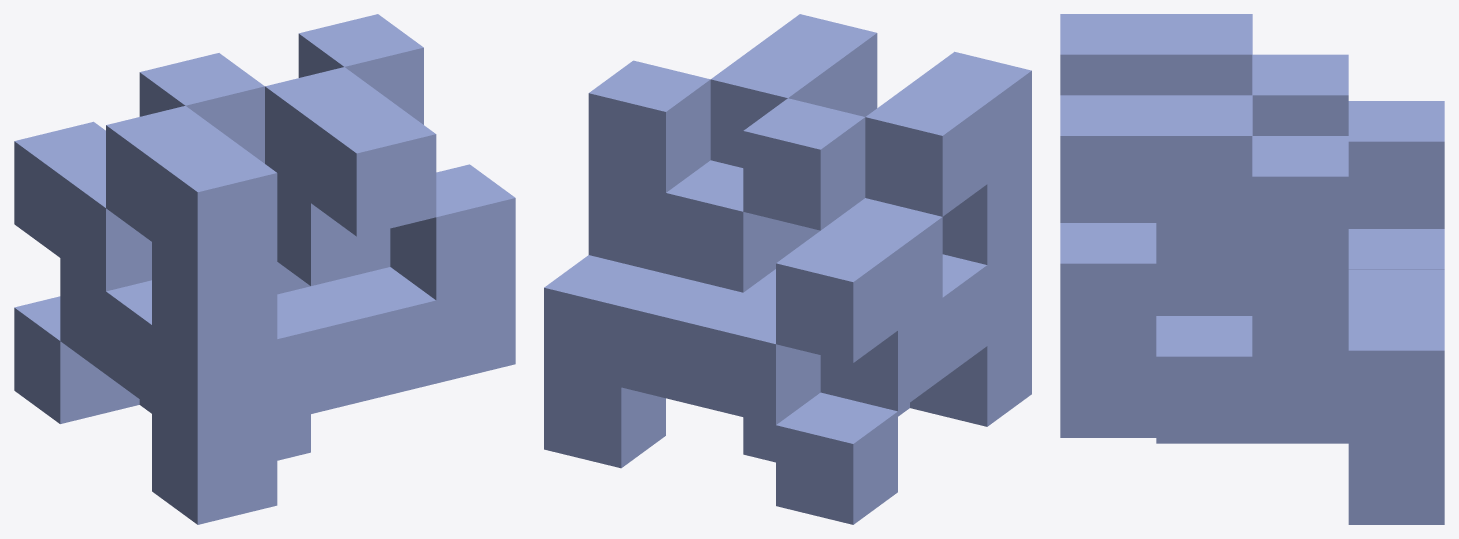
3 renders of one model, left to right at view 1: azimuth 30°, elevation 25°; view 2: azimuth 150°, elevation 25°; view 3: azimuth 270°, elevation 25°, orthographic. The views are drawn at different scales.
Visible parts, largest first — view 1: _changes.011; view 2: _changes.011; view 3: _changes.011.
Part boxes in pixels (x1,y1,x2,y2): _changes.011: [14, 14, 515, 524]; _changes.011: [544, 14, 1031, 524]; _changes.011: [1060, 14, 1444, 524].
Size of the model in its own units: 0.1041 by 0.1041 by 0.1041.
